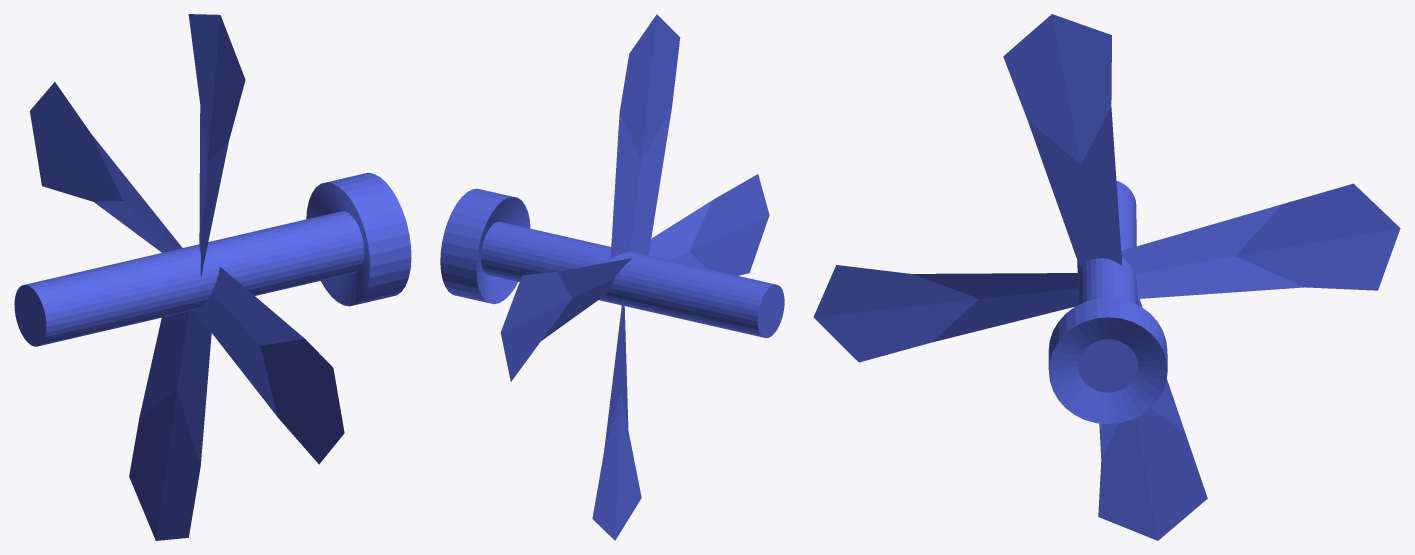
File: Fan.fbx
3 views of the same model, side by side, from view 1: azimuth 30°, elevation 25°; view 2: azimuth 150°, elevation 25°; view 3: azimuth 270°, elevation 25° (orthographic). The views are drawn at different scales.
Visible parts, largest first — view 1: Center Fan; view 2: Center Fan; view 3: Center Fan.
Part boxes in pixels (box(x1,y1,x2,y2)): Center Fan: box(14, 14, 411, 540); Center Fan: box(440, 14, 784, 540); Center Fan: box(813, 14, 1400, 540).
Bounding box in the file's own units: 1830 × 2816 × 2823.
